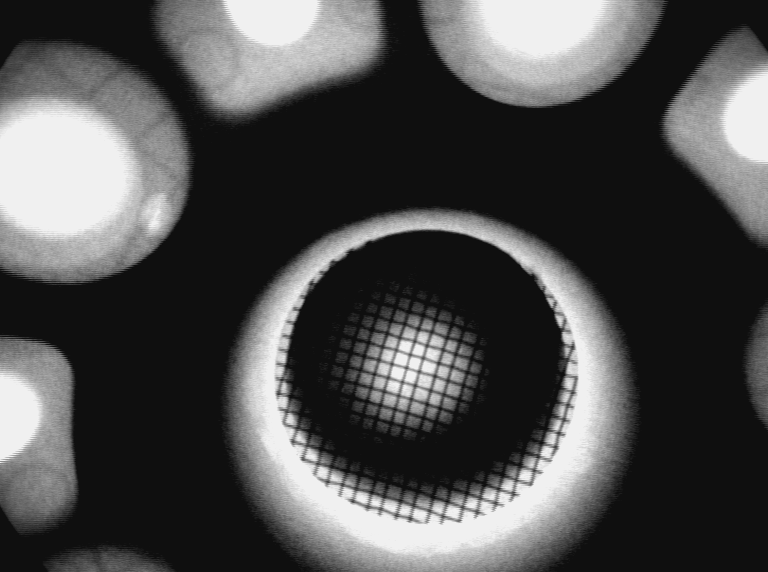defect: (136, 188, 176, 241)
